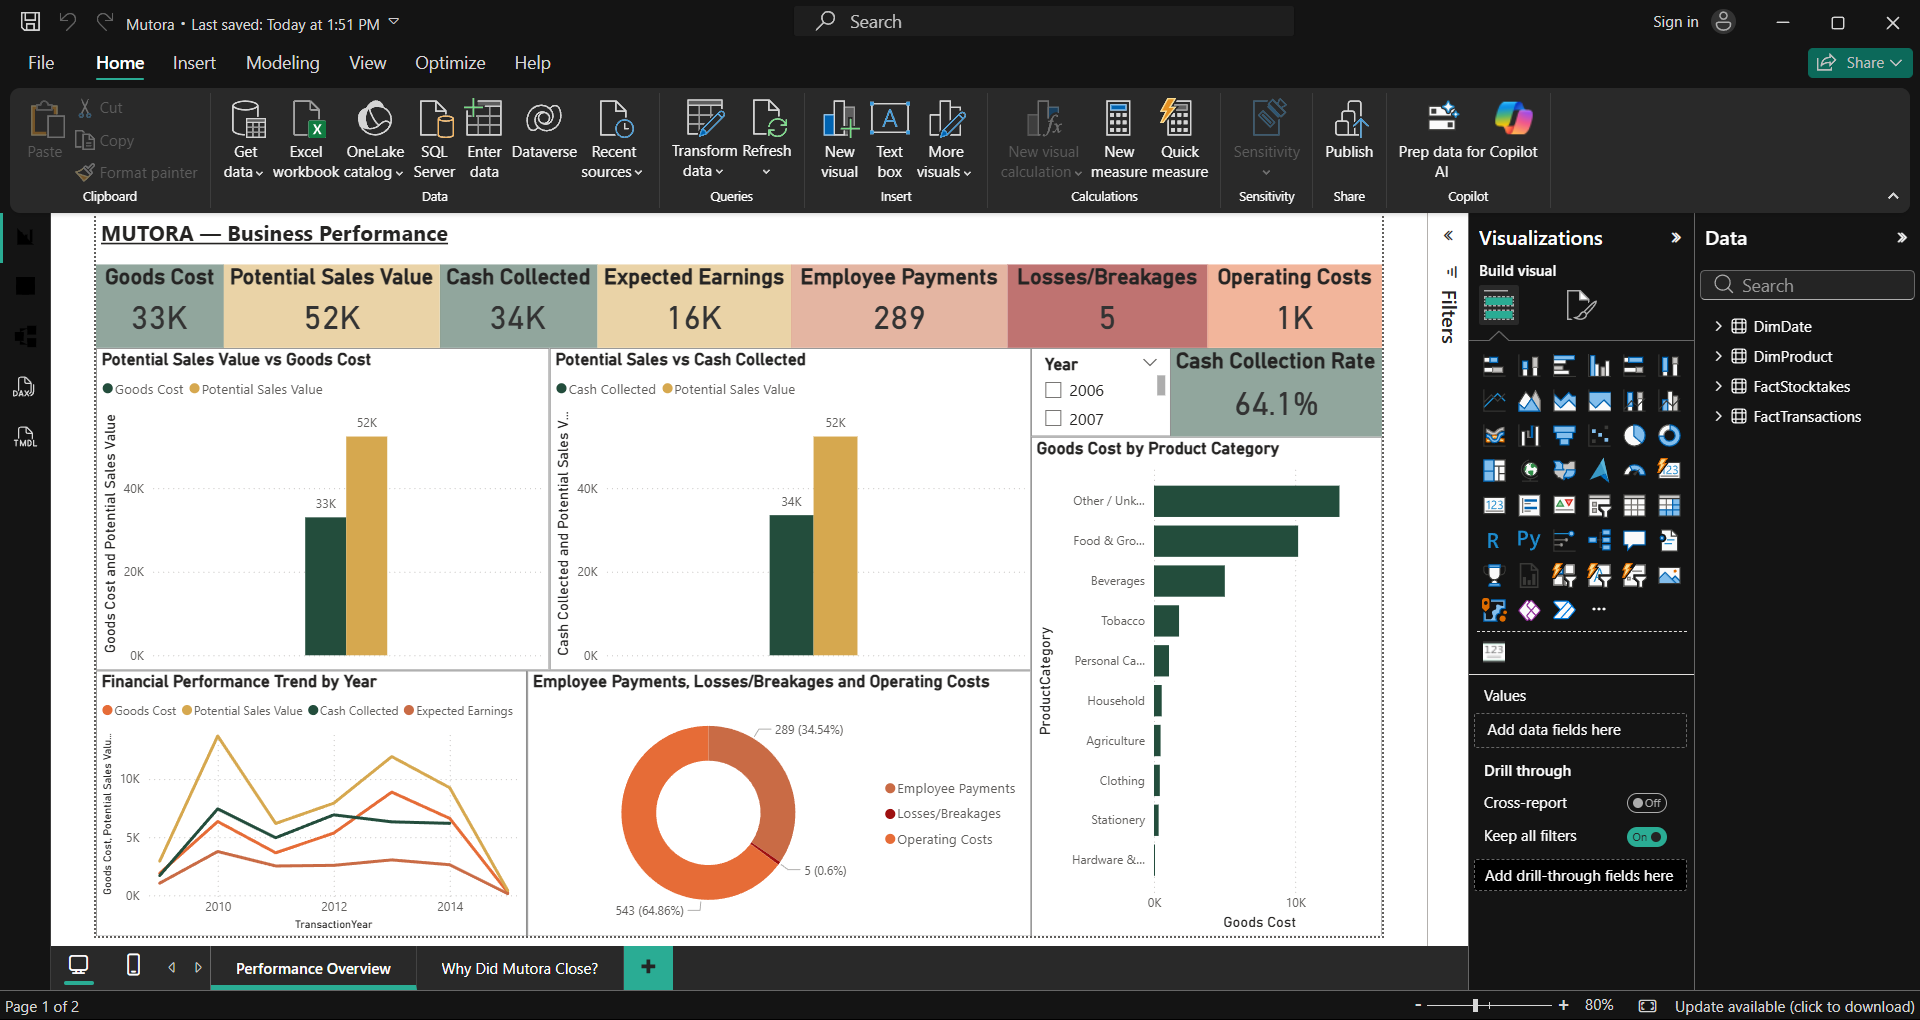

The dashboard page shown, as its layout file describes it:
{"tool":"powerbi","page":{"name":"Performance Overview","canvas":[1280,720],"ordinal":0},"visuals":[{"type":"advanceCardE03760C5AB684758B56AA29F9E6C257B","title":"Goods Cost","fields":{"mainMeasure":["FactTransactions.Goods Cost"]},"box":[0,51,126.9,83.3],"z":0},{"type":"advanceCardE03760C5AB684758B56AA29F9E6C257B","title":"Potential Sales Value","fields":{"mainMeasure":["FactTransactions.Potential Sales Value"]},"box":[126.9,51,215.2,83.3],"z":1000},{"type":"advanceCardE03760C5AB684758B56AA29F9E6C257B","title":"Cash Collected","fields":{"mainMeasure":["FactTransactions.Cash Collected"]},"box":[342.1,51,156.7,83.3],"z":2000},{"type":"advanceCardE03760C5AB684758B56AA29F9E6C257B","title":"Expected Earnings","fields":{"mainMeasure":["FactTransactions.Expected Earnings"]},"box":[498.8,51,192.8,83.3],"z":3000},{"type":"advanceCardE03760C5AB684758B56AA29F9E6C257B","title":"Employee Payments","fields":{"mainMeasure":["FactTransactions.Employee Payments"]},"box":[691.6,51,215.2,83.3],"z":4000},{"type":"advanceCardE03760C5AB684758B56AA29F9E6C257B","title":"Losses/Breakages","fields":{"mainMeasure":["FactTransactions.Losses"]},"box":[906.8,51,199,83.3],"z":5000},{"type":"advanceCardE03760C5AB684758B56AA29F9E6C257B","title":"Operating Costs","fields":{"mainMeasure":["FactTransactions.Operating Costs"]},"box":[1105.9,51,174.2,83.3],"z":6000},{"type":"clusteredColumnChart","title":"Potential Sales Value vs Goods Cost","fields":{"Y":["FactTransactions.Goods Cost","FactTransactions.Potential Sales Value"]},"box":[0,134.3,451.6,320.9],"z":7000},{"type":"textbox","box":[0,0,385.6,42.3],"z":8000},{"type":"clusteredColumnChart","title":"Potential Sales vs Cash Collected","fields":{"Y":["FactTransactions.Cash Collected","FactTransactions.Potential Sales Value"]},"box":[451.6,134.3,478.9,320.9],"z":9000},{"type":"lineChart","title":"Financial Performance Trend by Year","fields":{"Category":["FactTransactions.TransactionYear"],"Y":["FactTransactions.Goods Cost","FactTransactions.Potential Sales Value","FactTransactions.Cash Collected","FactTransactions.Expected Earnings"]},"box":[0,455.3,429.2,265],"z":10000},{"type":"donutChart","fields":{"Y":["FactTransactions.Employee Payments","FactTransactions.Losses/Breakages","FactTransactions.Operating Costs"]},"box":[429.2,455.3,501.3,265],"z":11000},{"type":"barChart","title":"Goods Cost by Product Category","fields":{"Category":["FactTransactions.ProductCategory"],"Y":["FactTransactions.Goods Cost"]},"box":[930.5,222.7,349.6,497.6],"z":12000},{"type":"advanceCardE03760C5AB684758B56AA29F9E6C257B","title":"Cash Collection Rate","fields":{"mainMeasure":["FactTransactions.Cash Collection Rate"]},"box":[1069.8,134.3,210.2,88.3],"z":13000},{"type":"slicer","fields":{"Values":["DimDate.Year"]},"box":[930.5,134.3,139.3,88.3],"z":13001}]}

Visuals, with their boxes on the page's 1280x720 design canvas (x1, y1, x2, y2). These are canvas units, not pixel positions in the 1920x1020 screenshot, which may show the page scaled, cropped or inside an application window:
"Goods Cost" advanceCardE03760C5AB684758B56AA29F9E6C257B: 0,51,127,134
"Potential Sales Value" advanceCardE03760C5AB684758B56AA29F9E6C257B: 127,51,342,134
"Cash Collected" advanceCardE03760C5AB684758B56AA29F9E6C257B: 342,51,499,134
"Expected Earnings" advanceCardE03760C5AB684758B56AA29F9E6C257B: 499,51,692,134
"Employee Payments" advanceCardE03760C5AB684758B56AA29F9E6C257B: 692,51,907,134
"Losses/Breakages" advanceCardE03760C5AB684758B56AA29F9E6C257B: 907,51,1106,134
"Operating Costs" advanceCardE03760C5AB684758B56AA29F9E6C257B: 1106,51,1280,134
"Potential Sales Value vs Goods Cost" clusteredColumnChart: 0,134,452,455
textbox: 0,0,386,42
"Potential Sales vs Cash Collected" clusteredColumnChart: 452,134,930,455
"Financial Performance Trend by Year" lineChart: 0,455,429,720
donutChart - FactTransactions.Employee Payments x FactTransactions.Losses/Breakages: 429,455,930,720
"Goods Cost by Product Category" barChart: 930,223,1280,720
"Cash Collection Rate" advanceCardE03760C5AB684758B56AA29F9E6C257B: 1070,134,1280,223
slicer - DimDate.Year: 930,134,1070,223
